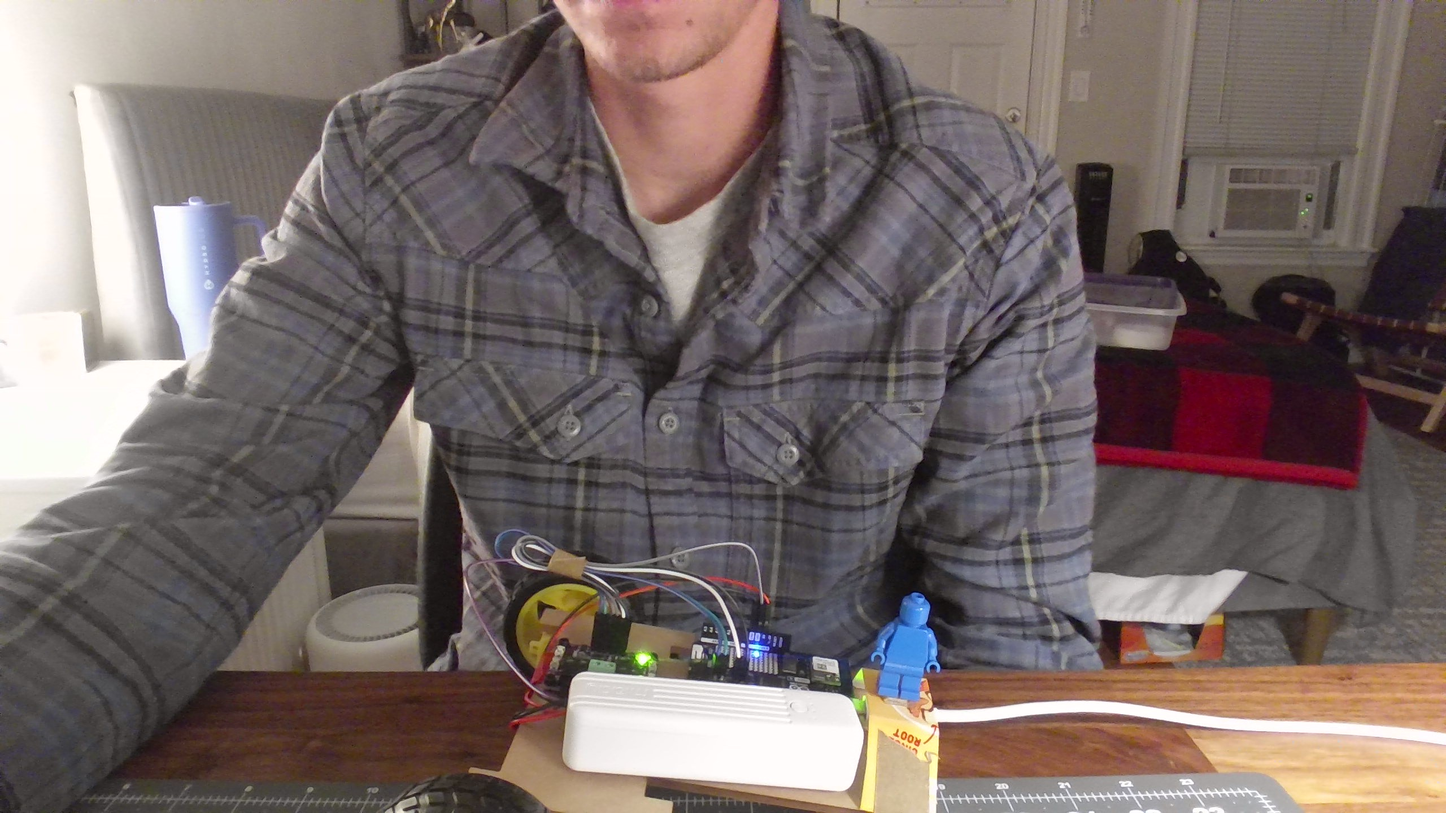Training-dataset-2: (862, 580, 944, 705)
